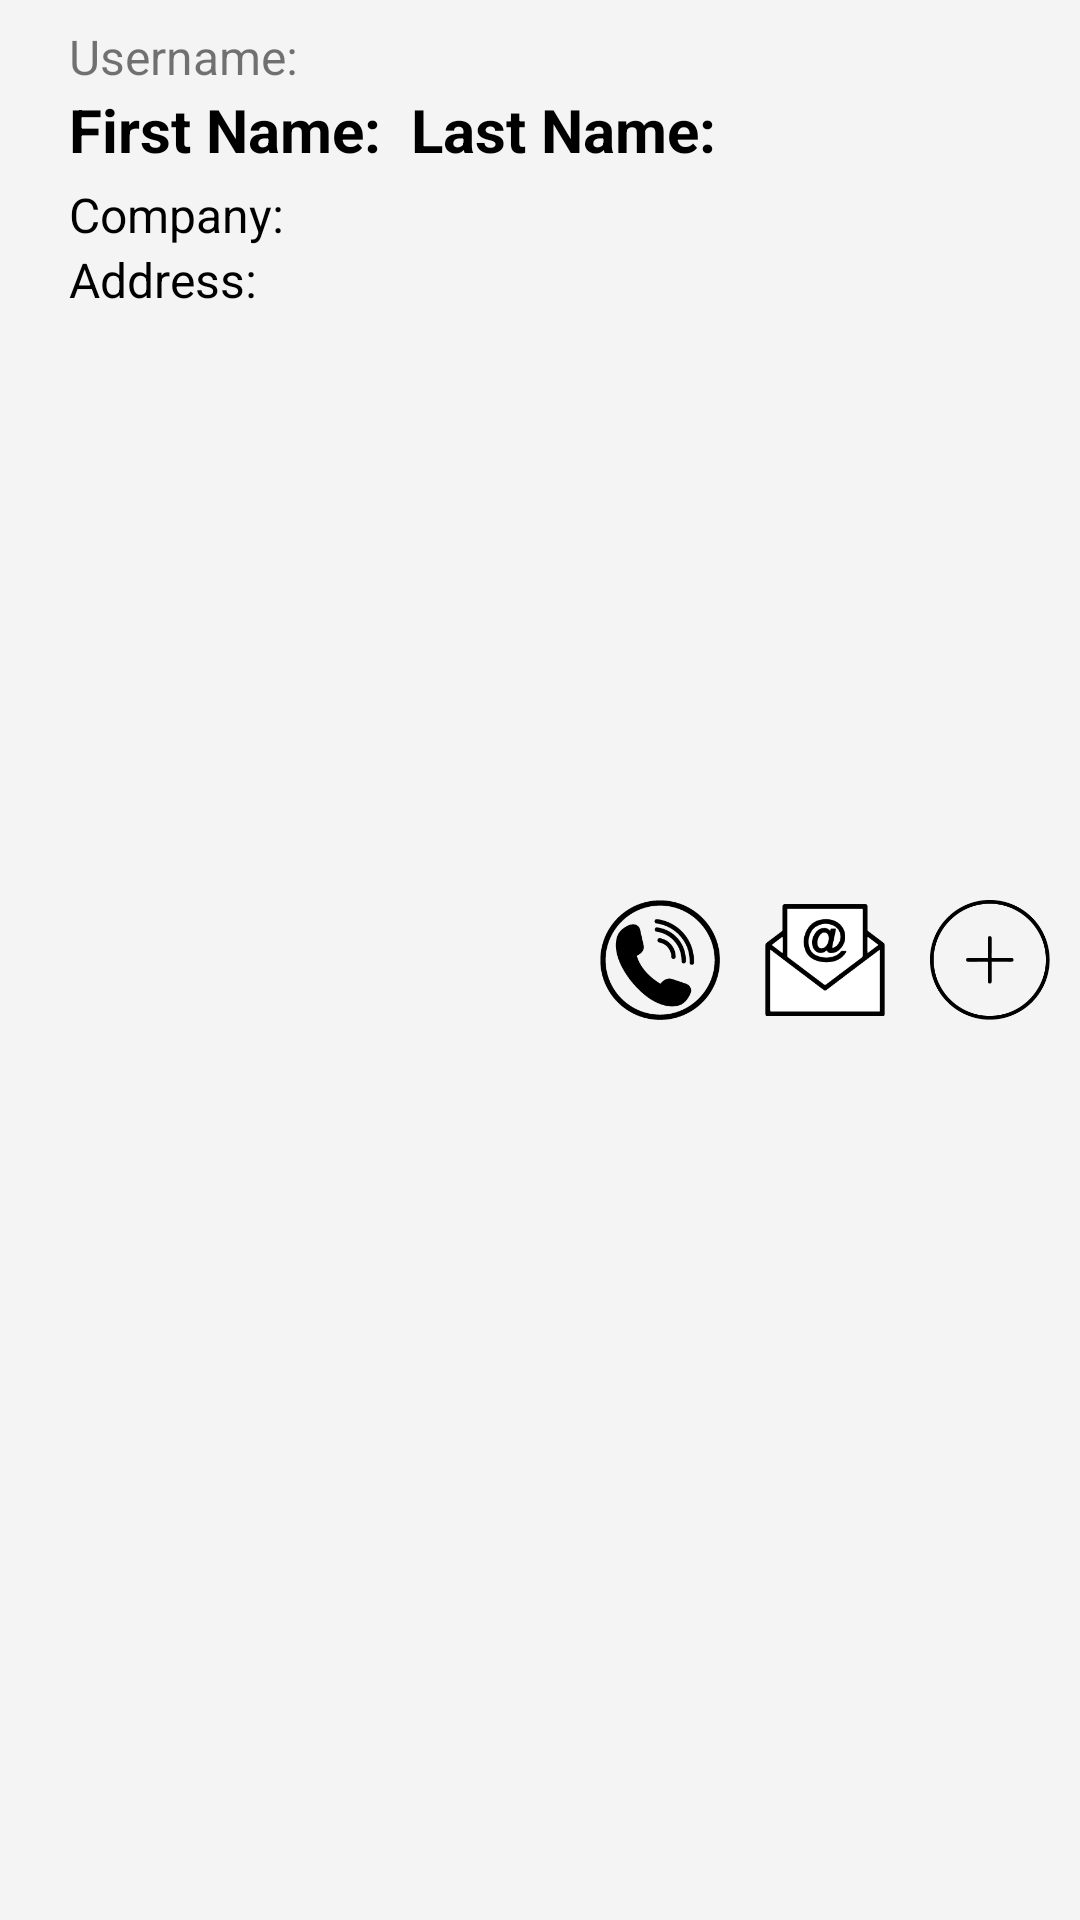

Locate icon controls on the screen. Image size 1080*1920, boxes as rect(x1, y1, x2, y2).
add appointment: rect(930, 900, 1050, 1020)
call: rect(600, 900, 720, 1020)
email: rect(765, 904, 885, 1016)
